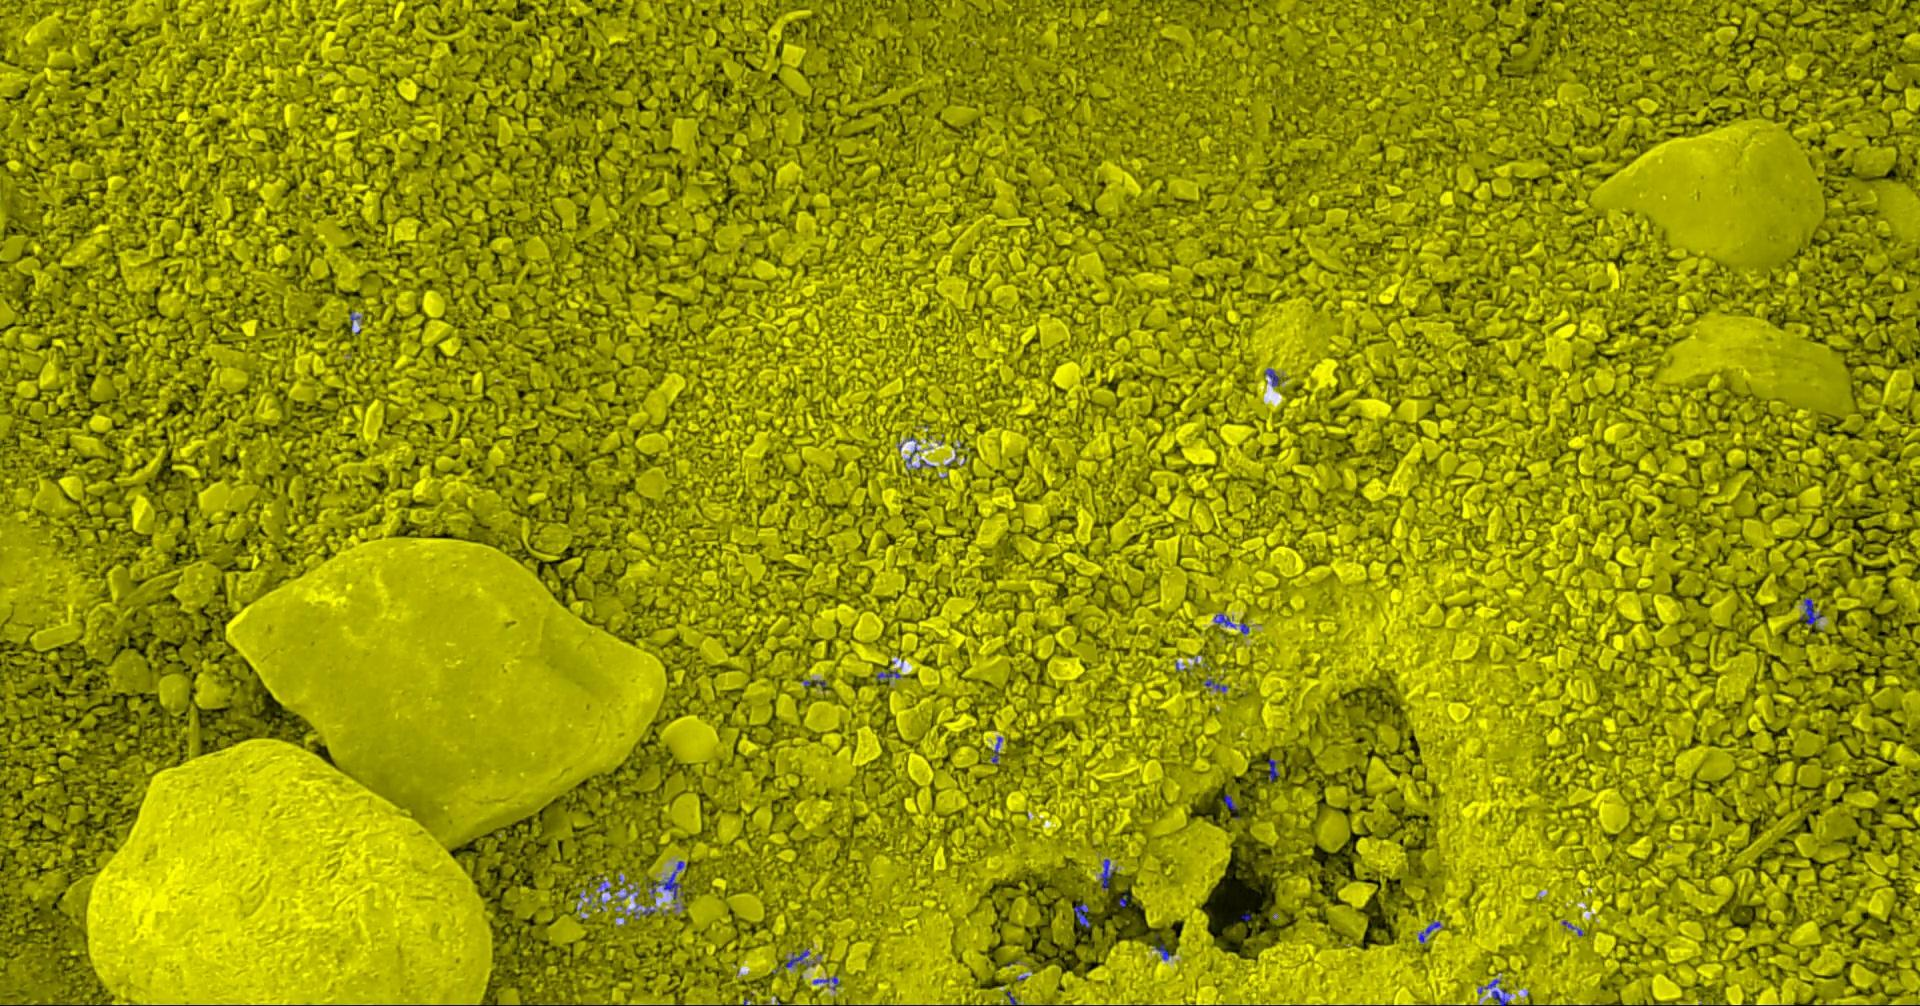ant: (646, 860, 683, 899), (1477, 978, 1507, 1005), (1799, 598, 1823, 624), (1098, 857, 1116, 888), (785, 949, 813, 967), (1418, 920, 1440, 942), (1072, 902, 1090, 929), (811, 976, 839, 989), (1213, 614, 1236, 627), (990, 735, 1001, 763), (1204, 680, 1227, 691), (1267, 758, 1279, 781), (876, 669, 902, 680), (1263, 368, 1279, 385), (1223, 794, 1238, 810), (1156, 942, 1170, 959)
